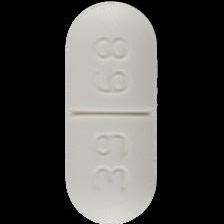0591-2520: (0, 0, 224, 224)
